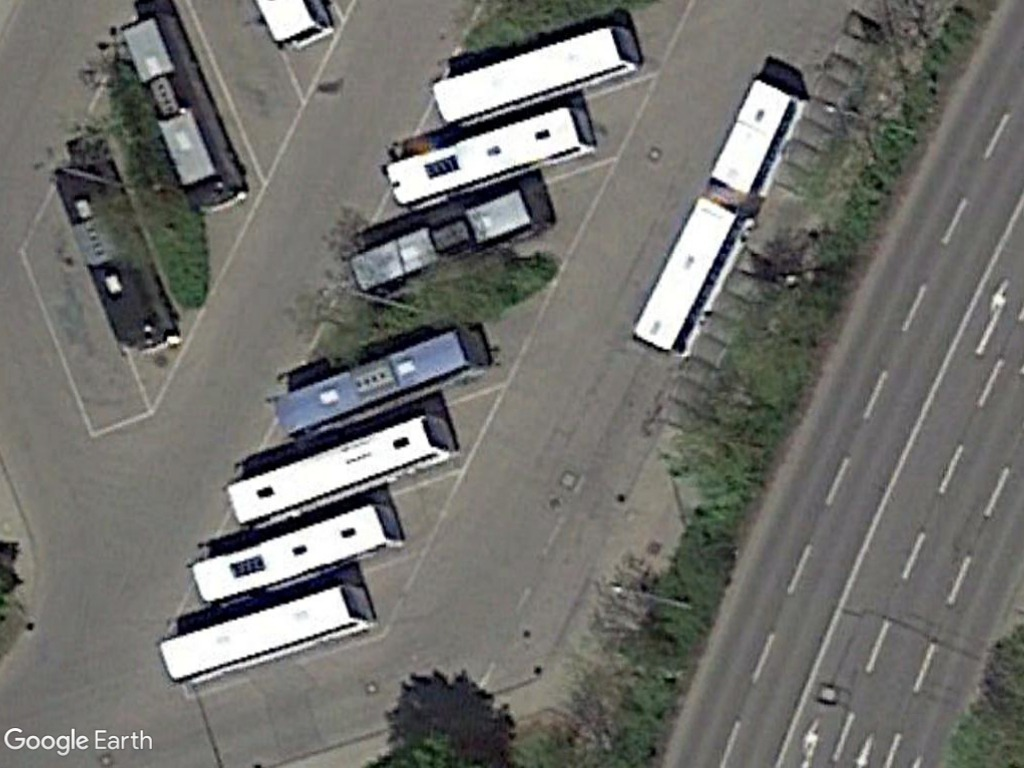bus: (625, 78, 809, 361), (217, 412, 460, 532), (274, 321, 498, 447), (118, 16, 253, 216), (378, 97, 597, 217), (53, 157, 184, 356), (182, 500, 405, 611), (431, 23, 646, 131), (155, 582, 375, 687), (348, 188, 539, 298)
